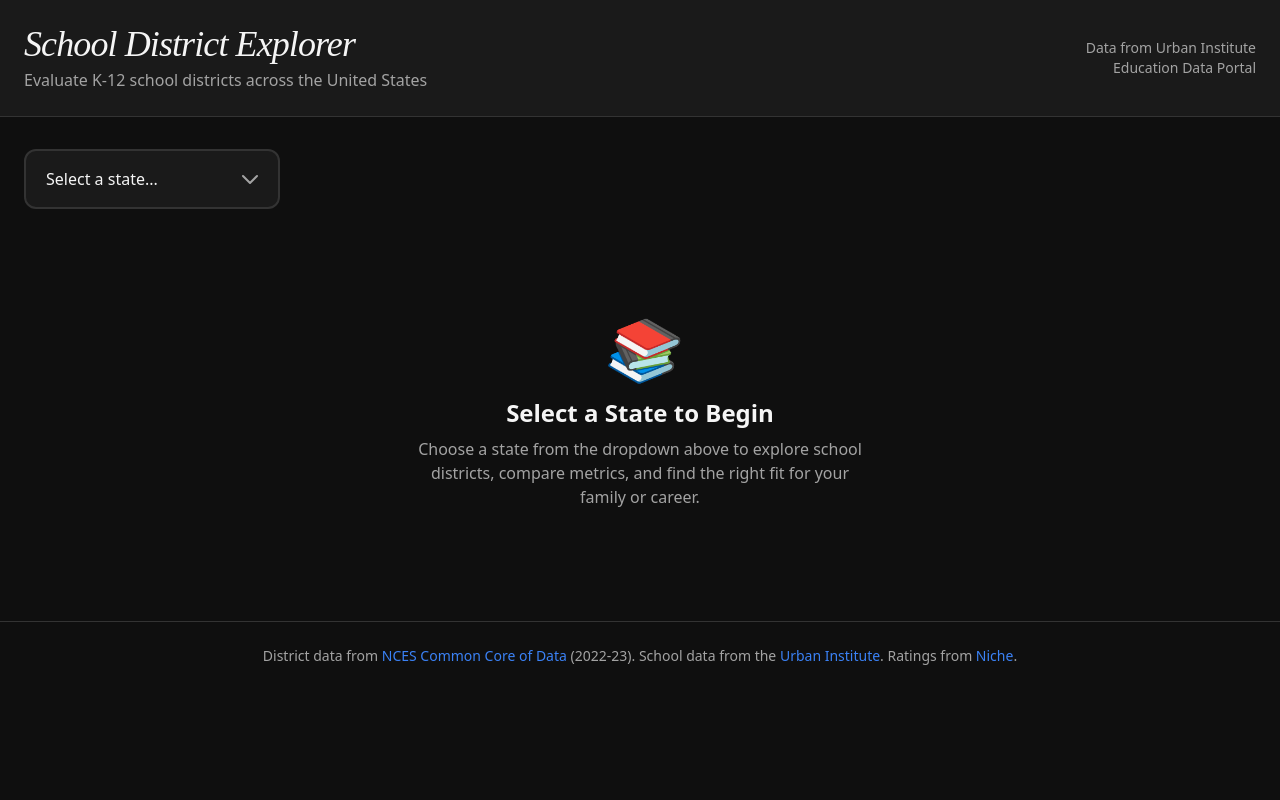
Scenario: App › should show search input when state is selected
This screenshot has width=1280, height=800.
Select "California" in the dropdown: (152, 179) [24,149,280,209]
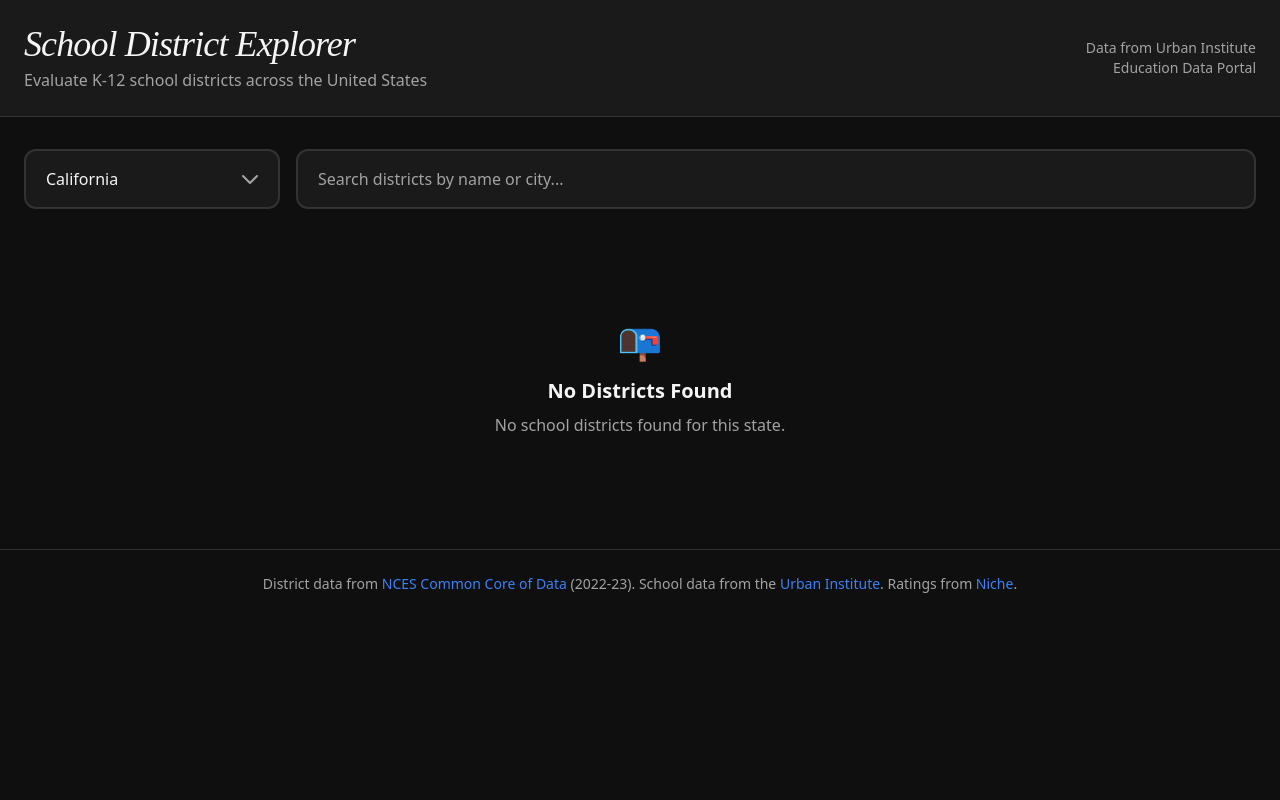
Now the field with placeholder "Search districts by name or city..." is shown, box [296,149,1256,209]
